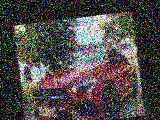car: (27, 43, 142, 120)
